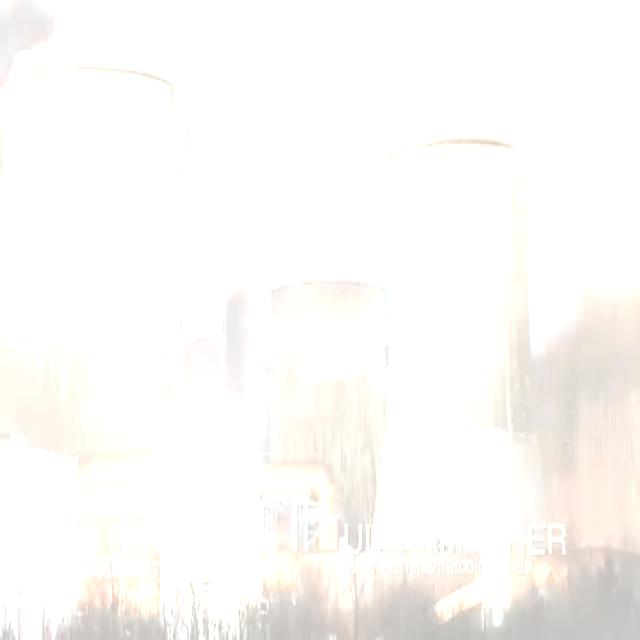smoke: (19, 0, 640, 553)
